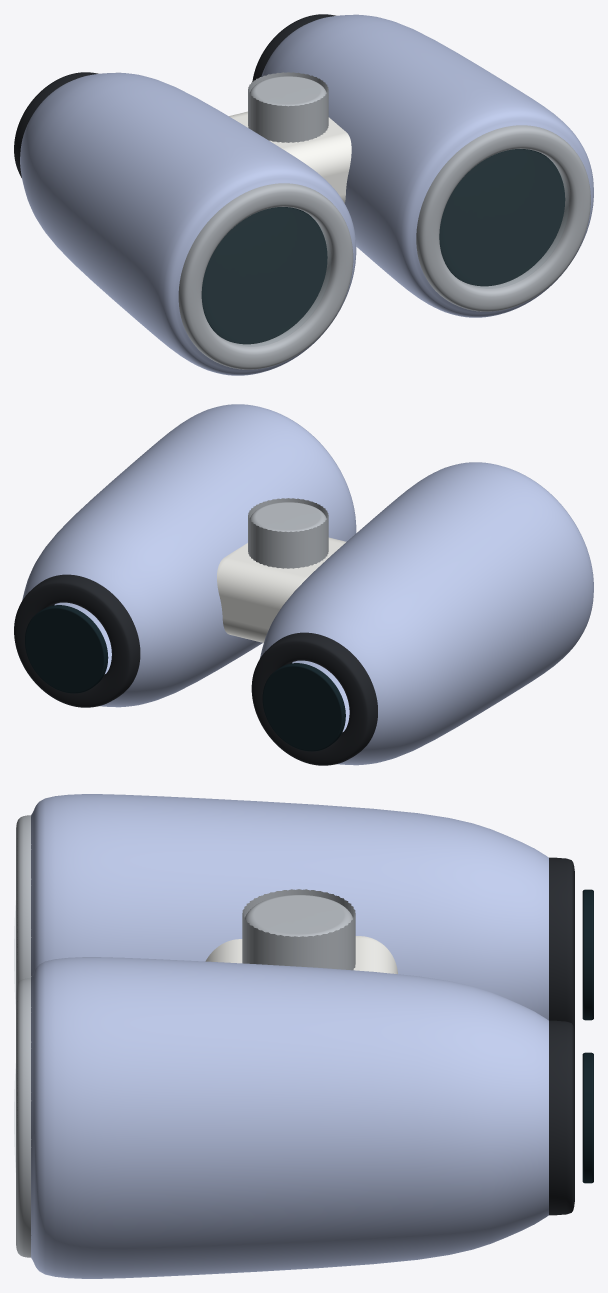
File: binoculars.glb
The picture shows the model from 3 angles, top to bottom: view 1: azimuth 30°, elevation 25°; view 2: azimuth 150°, elevation 25°; view 3: azimuth 270°, elevation 25°; orthographic projection. The views are drawn at different scales.
Visible parts, largest first — view 1: continuous-hollow-optical-barrel (×2), convex-transparent-window (×2), machined-annular-ring (×4), left-objective-optics-007, right-objective-optics-013, focus-wheel-002, bridge-and-focus-001, focus-wheel-003; view 2: continuous-hollow-optical-barrel (×2), machined-annular-ring (×2), left-eyepiece-009, right-eyepiece-015, bridge-and-focus-001, focus-wheel-002, focus-wheel-003; view 3: continuous-hollow-optical-barrel (×2), machined-annular-ring (×4), focus-wheel-002, focus-wheel-003, bridge-and-focus-001, left-eyepiece-009, right-eyepiece-015.
Boxes of the visible parts, x1,y1,x2,y2 form: continuous-hollow-optical-barrel (×2): (20, 14, 593, 375); convex-transparent-window (×2): (202, 149, 568, 346); machined-annular-ring (×4): (14, 14, 590, 369); left-objective-optics-007: (201, 207, 327, 344); right-objective-optics-013: (439, 149, 565, 286); focus-wheel-002: (248, 72, 328, 142); bridge-and-focus-001: (229, 111, 351, 203); focus-wheel-003: (250, 76, 326, 106); continuous-hollow-optical-barrel (×2): (22, 404, 593, 765); machined-annular-ring (×2): (14, 574, 377, 765); left-eyepiece-009: (262, 663, 345, 751); right-eyepiece-015: (25, 605, 108, 693); bridge-and-focus-001: (217, 537, 346, 642); focus-wheel-002: (248, 498, 328, 568); focus-wheel-003: (250, 502, 326, 531); continuous-hollow-optical-barrel (×2): (31, 794, 548, 1278); machined-annular-ring (×4): (16, 815, 574, 1257); focus-wheel-002: (242, 889, 355, 970); focus-wheel-003: (245, 895, 352, 936); bridge-and-focus-001: (205, 936, 397, 974); left-eyepiece-009: (582, 889, 593, 1020); right-eyepiece-015: (582, 1052, 593, 1183).
Bounding box in the file's own units: 2 × 0.9095 × 1.64.
